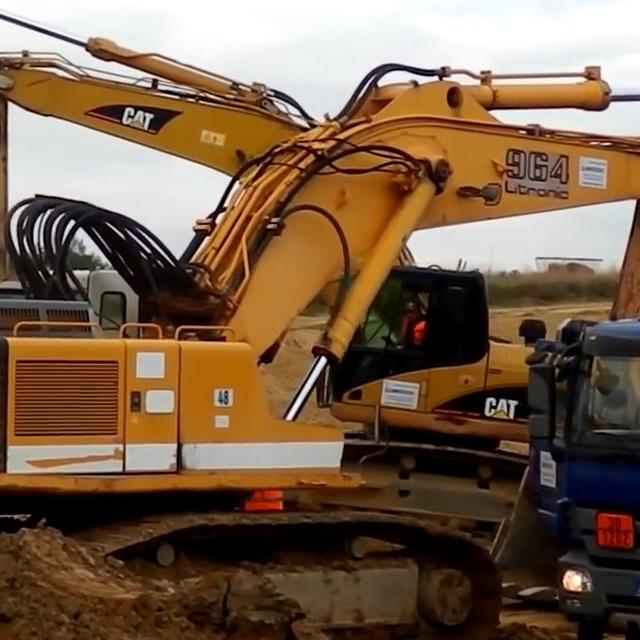Excavator: (0, 0, 640, 640), (0, 0, 564, 559)
Person: (398, 300, 426, 344)
Safety Vest: (402, 318, 425, 340)
